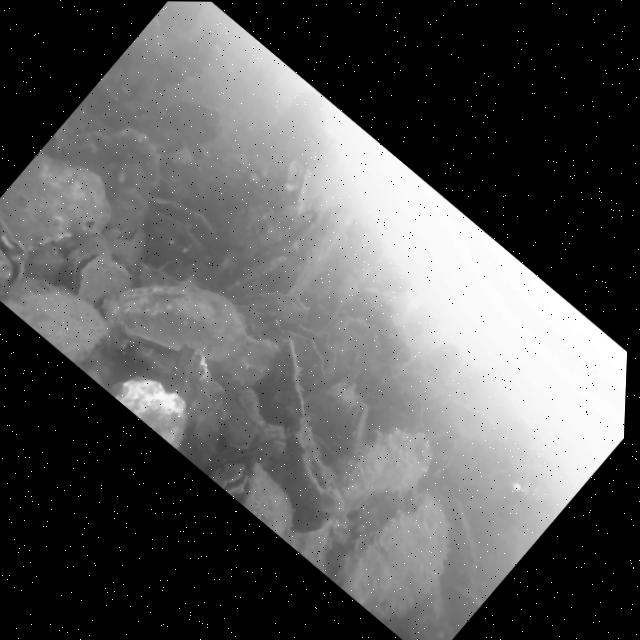Oyster-Closed: (195, 336, 408, 541), (94, 240, 267, 403), (124, 339, 263, 472), (227, 459, 315, 540)
Oyster-Indeterminate: (33, 99, 189, 250), (329, 482, 481, 635), (0, 136, 129, 279), (322, 412, 446, 541), (0, 254, 119, 367), (111, 362, 207, 450), (226, 270, 317, 358), (204, 323, 292, 412)
Oyster-Open: (114, 180, 228, 289), (262, 316, 350, 402), (52, 240, 140, 325), (0, 207, 44, 301), (322, 398, 385, 462), (210, 454, 257, 500)
